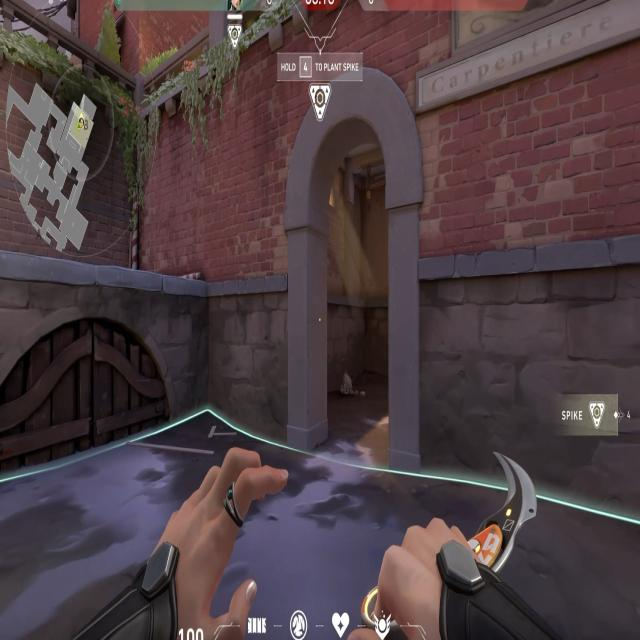B_Boathouse: (274, 51, 430, 481)
